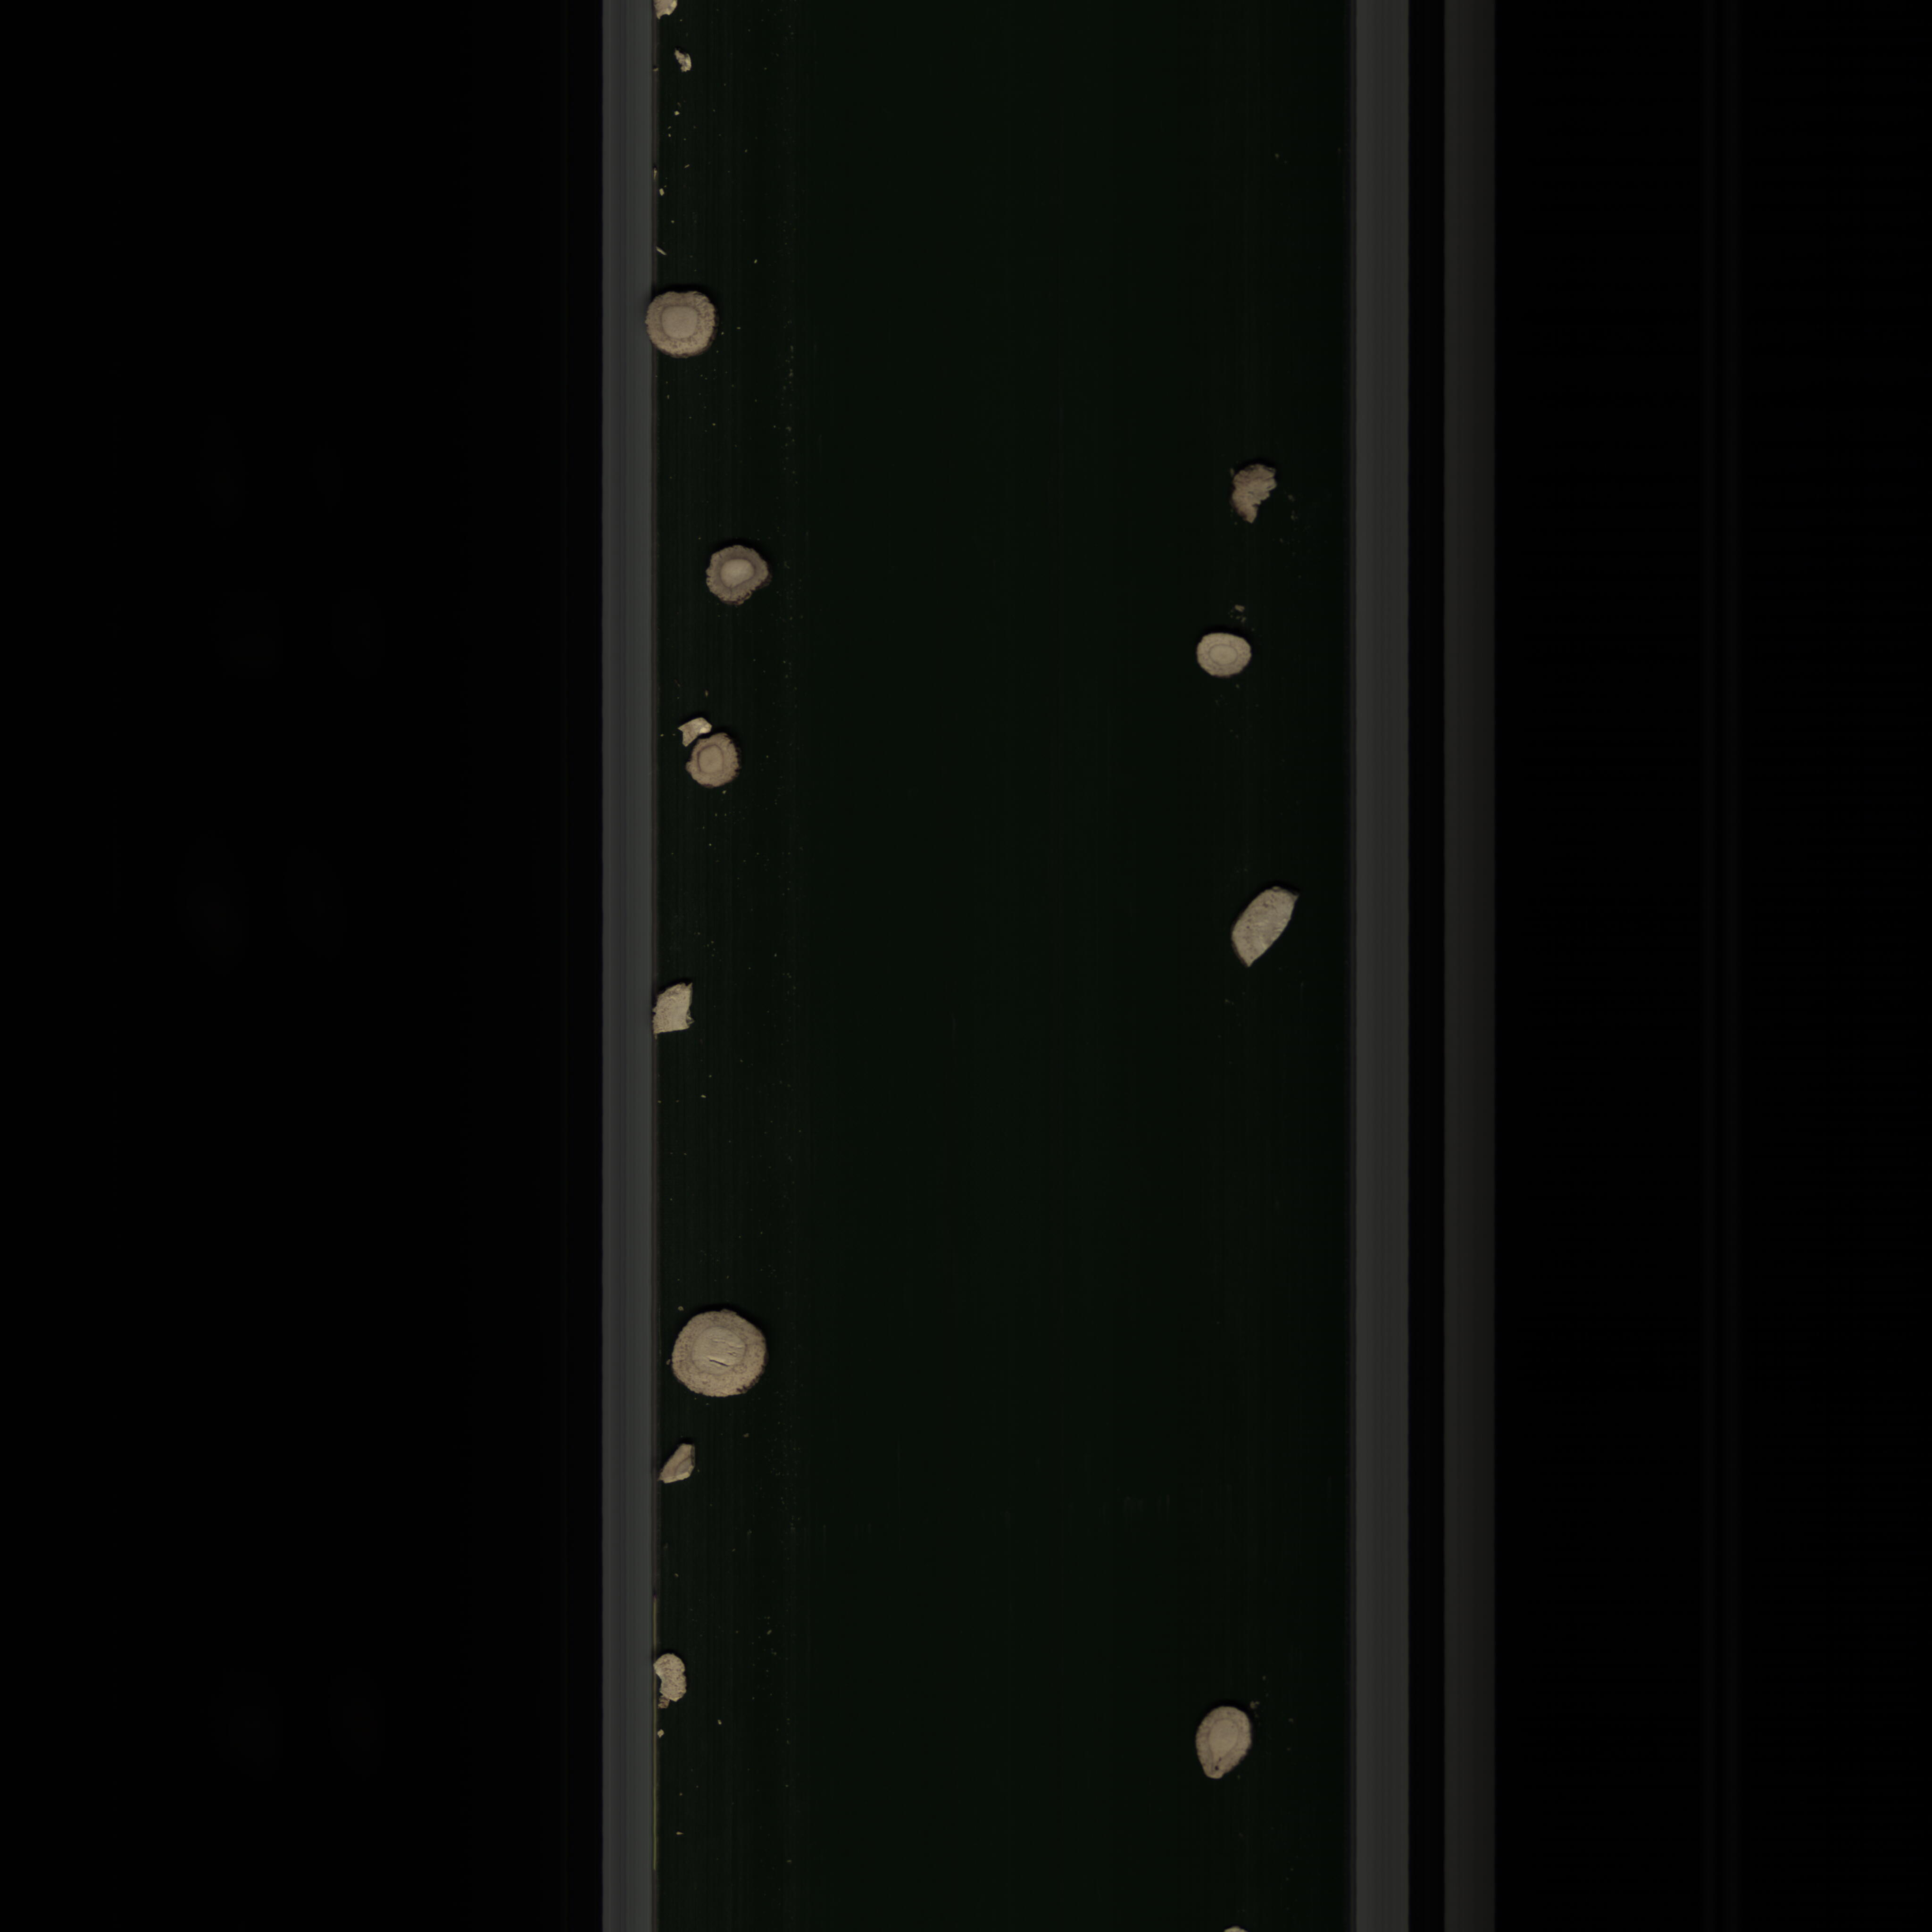bark: (1226, 462, 1277, 529)
debris: (1226, 878, 1306, 980), (651, 1652, 701, 1714), (651, 980, 697, 1044), (648, 1438, 708, 1486), (669, 717, 718, 748)
moldy: (704, 543, 780, 612)
